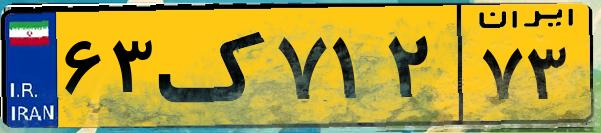1: (330, 28, 385, 110)
2: (385, 28, 445, 110)
3: (525, 38, 570, 115), (110, 28, 158, 98)
6: (57, 26, 110, 100)
7: (270, 28, 330, 110), (475, 38, 525, 113)
ک: (158, 12, 270, 120)
